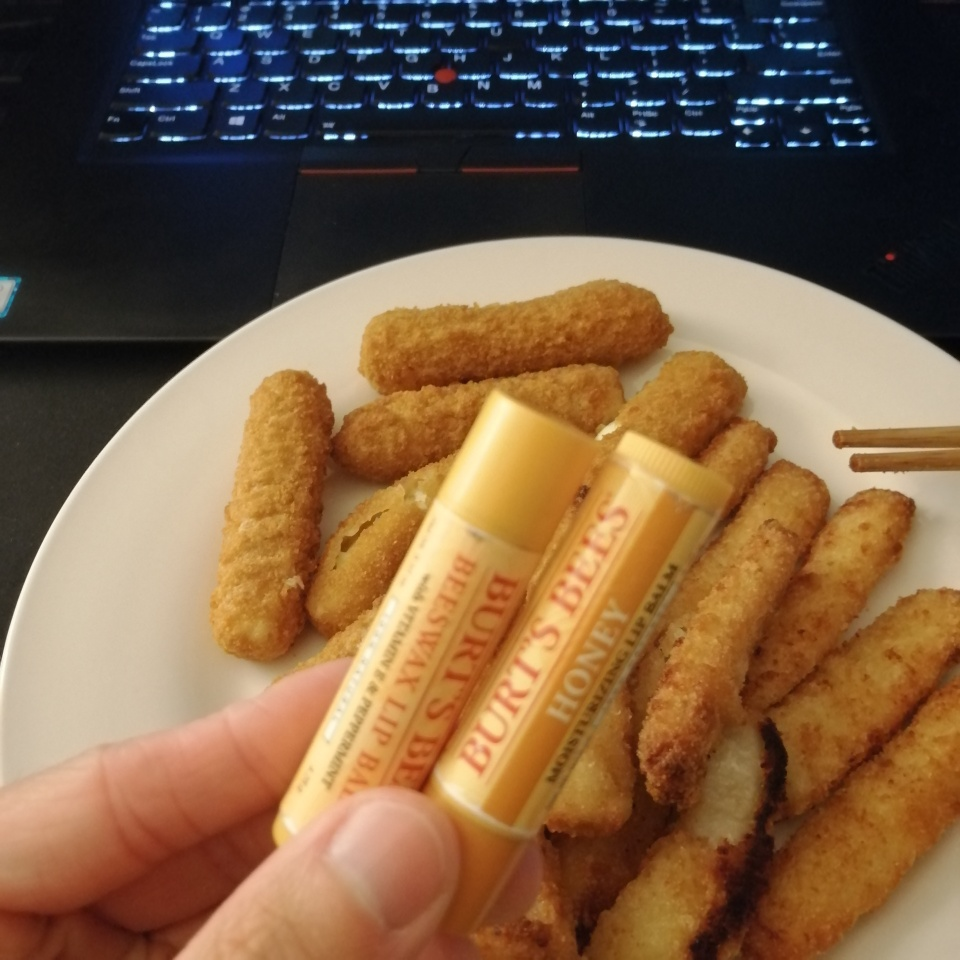chapstick: (424, 431, 737, 936), (272, 392, 600, 852)
